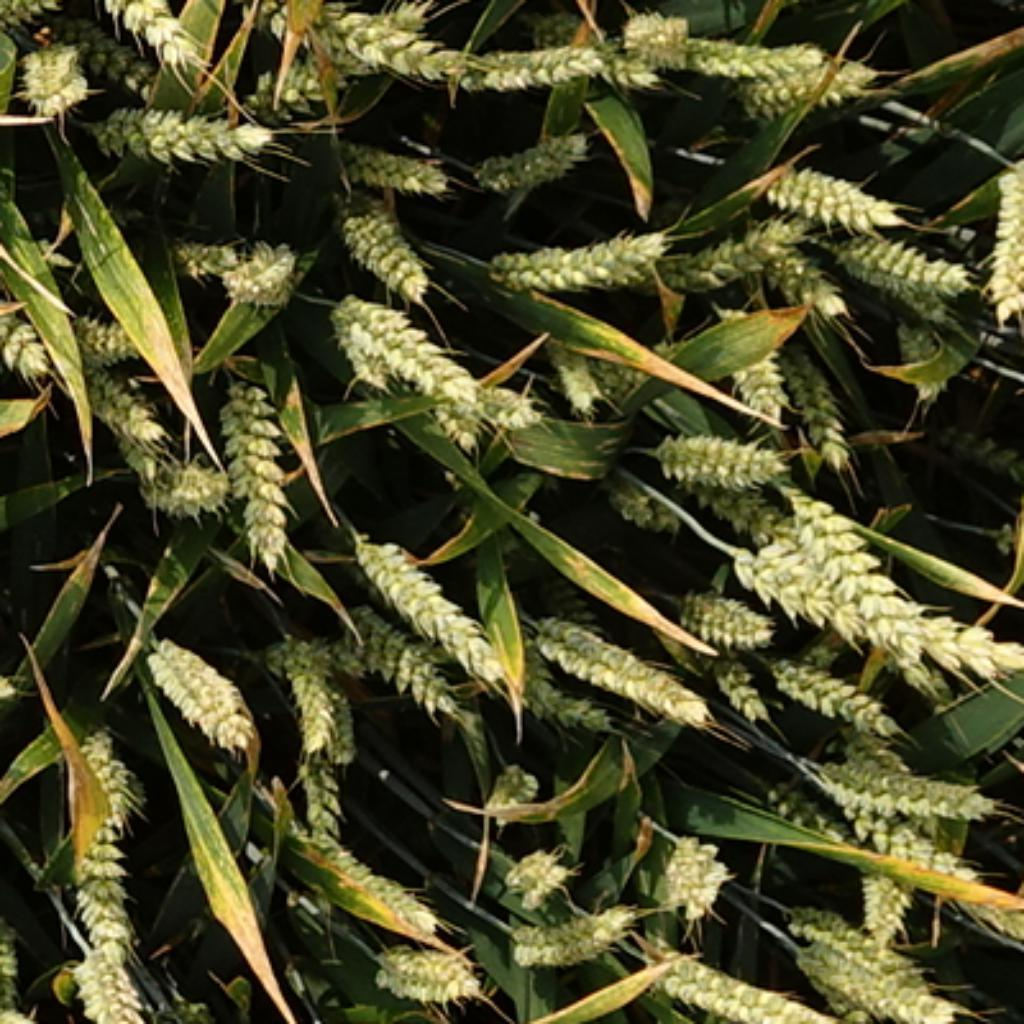0-0: (724, 532, 1024, 678), (773, 478, 952, 704), (327, 287, 516, 435), (238, 2, 437, 128), (363, 529, 522, 678), (847, 806, 1024, 936), (524, 599, 706, 719), (51, 724, 148, 949), (212, 363, 307, 573), (243, 0, 455, 89), (43, 312, 168, 450), (296, 811, 442, 929), (673, 207, 842, 304), (79, 84, 271, 166), (133, 619, 256, 744), (478, 217, 673, 294), (665, 948, 857, 1024), (337, 614, 478, 714), (787, 901, 937, 993), (796, 944, 965, 1024), (524, 7, 670, 97), (811, 765, 1024, 826), (721, 58, 896, 130), (826, 217, 965, 307), (762, 642, 896, 732), (640, 28, 844, 84), (271, 622, 355, 757), (263, 629, 473, 683), (688, 471, 811, 560), (754, 772, 870, 866), (330, 184, 430, 289), (476, 32, 637, 96), (87, 0, 215, 80), (647, 419, 783, 494), (465, 115, 596, 192), (499, 896, 637, 967), (757, 153, 896, 222), (320, 122, 448, 189), (363, 929, 483, 1000), (717, 304, 791, 414), (750, 243, 849, 325), (983, 145, 1024, 340), (787, 369, 861, 474), (462, 369, 582, 433), (70, 932, 152, 1024), (673, 573, 770, 645), (222, 230, 312, 307), (542, 327, 627, 407), (133, 455, 227, 527), (654, 838, 733, 922), (321, 315, 398, 401), (591, 460, 683, 529), (12, 46, 92, 125), (294, 757, 360, 847), (517, 668, 614, 729), (56, 302, 145, 366), (0, 289, 59, 384), (903, 320, 957, 417), (837, 729, 924, 785), (698, 642, 768, 711), (421, 396, 495, 459), (852, 860, 916, 931), (619, 0, 696, 58), (501, 847, 573, 906), (476, 750, 542, 811), (171, 235, 243, 284), (780, 0, 898, 2)
